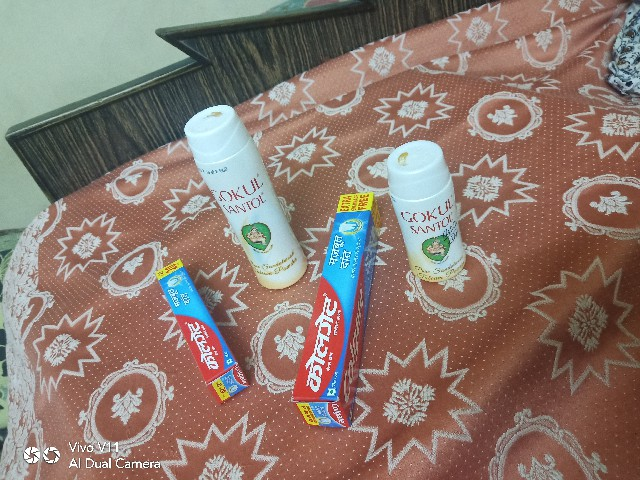colgatetoothpaste big: (291, 192, 382, 440)
colgatetoothpaste small: (153, 257, 256, 403)
gokulsantol big: (179, 102, 312, 294)
gokulsantol small: (385, 124, 472, 297)
